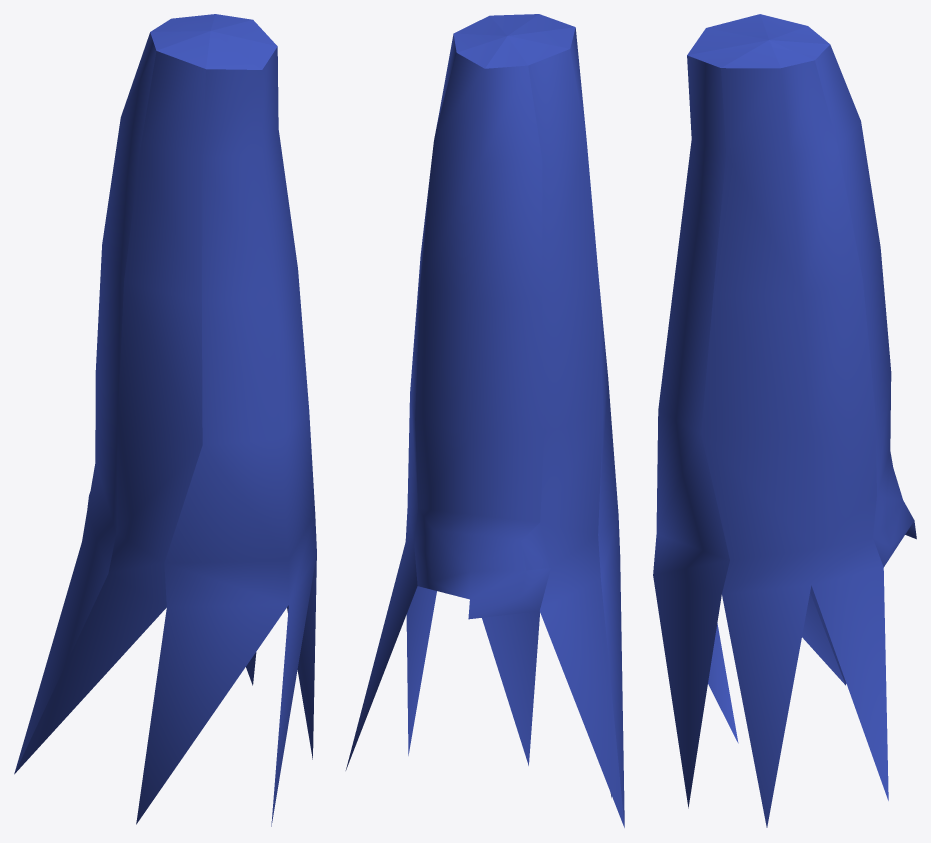
The model's file is right_leg.glb.
The picture shows the model from 3 angles, left to right: view 1: azimuth 30°, elevation 25°; view 2: azimuth 150°, elevation 25°; view 3: azimuth 270°, elevation 25°; orthographic projection.
Parts seen in each view (by area): view 1: trousers-blue_RIGHT_LEG; view 2: trousers-blue_RIGHT_LEG; view 3: trousers-blue_RIGHT_LEG.
Boxes of the visible parts, box(x1,y1,x2,y2) form: trousers-blue_RIGHT_LEG: box(14, 14, 316, 826); trousers-blue_RIGHT_LEG: box(345, 14, 624, 827); trousers-blue_RIGHT_LEG: box(653, 14, 916, 827).
Size of the model in its own units: 0.218 by 0.6173 by 0.1944.
1 material, 1 textured.
